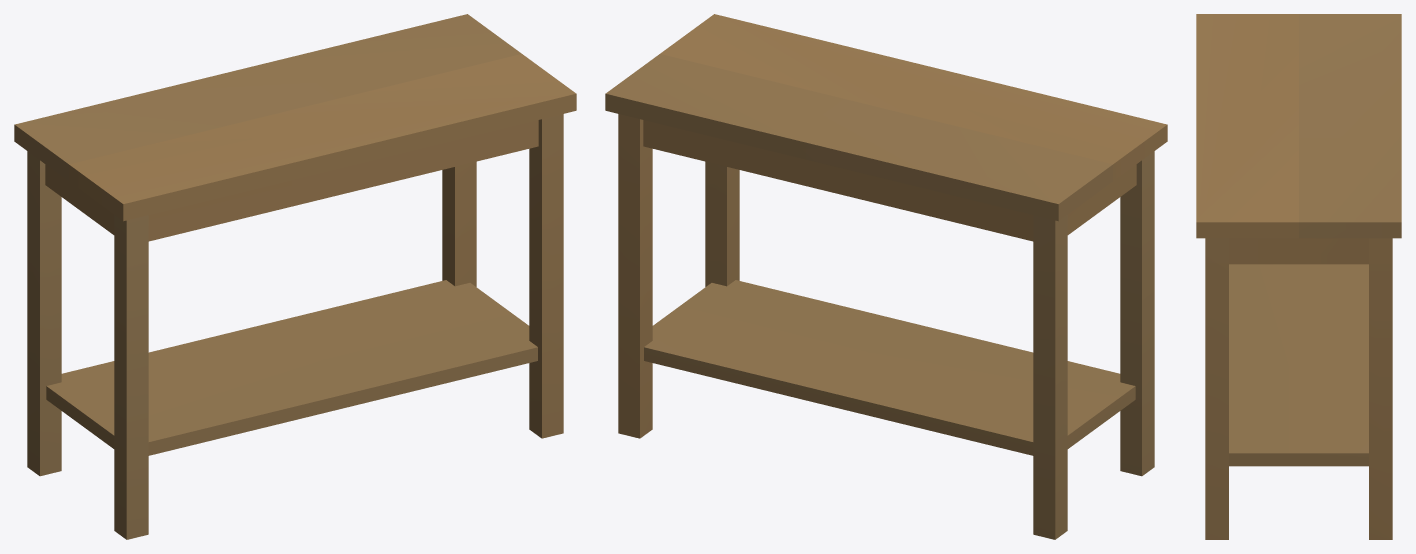
The model's file is table.console.pine.glb.
3 renders of one model, left to right at view 1: azimuth 30°, elevation 25°; view 2: azimuth 150°, elevation 25°; view 3: azimuth 270°, elevation 25°, orthographic. The views are drawn at different scales.
Visible parts, largest first — view 1: table_console_pine; view 2: table_console_pine; view 3: table_console_pine.
Boxes of the visible parts, <box> form: table_console_pine: <box>14,14,576,539</box>; table_console_pine: <box>605,14,1167,539</box>; table_console_pine: <box>1196,14,1401,539</box>.
Size of what is drawn, in the model's own units: 0.834 by 0.6 by 0.347.
